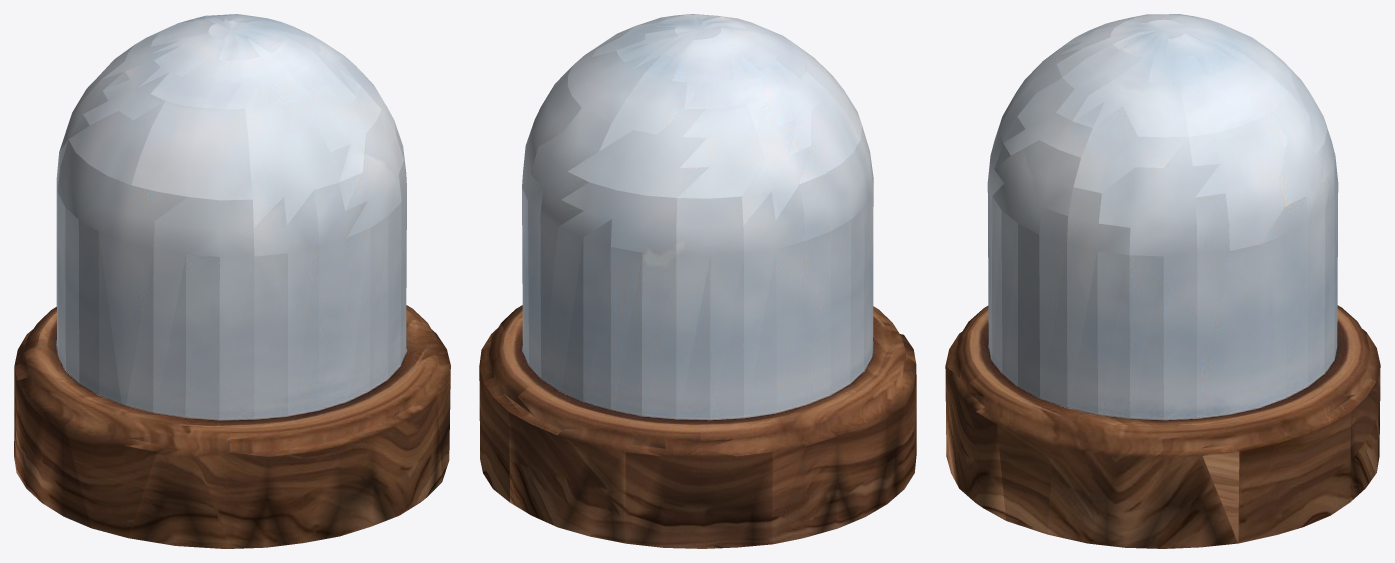
The model's file is storm_front.glb.
The picture shows the model from 3 angles, left to right: view 1: azimuth 30°, elevation 25°; view 2: azimuth 150°, elevation 25°; view 3: azimuth 270°, elevation 25°; orthographic projection.
Size of the model in its own units: 0.9316 by 1 by 0.9238.
Materials: 1 (1 with a texture image).
